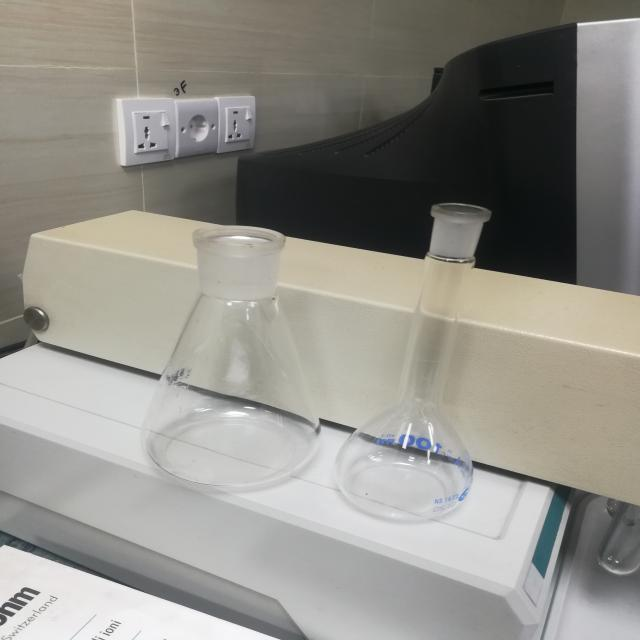Conical_Flask: (138, 184, 318, 501)
Volumetric_Flask: (338, 208, 543, 526)
